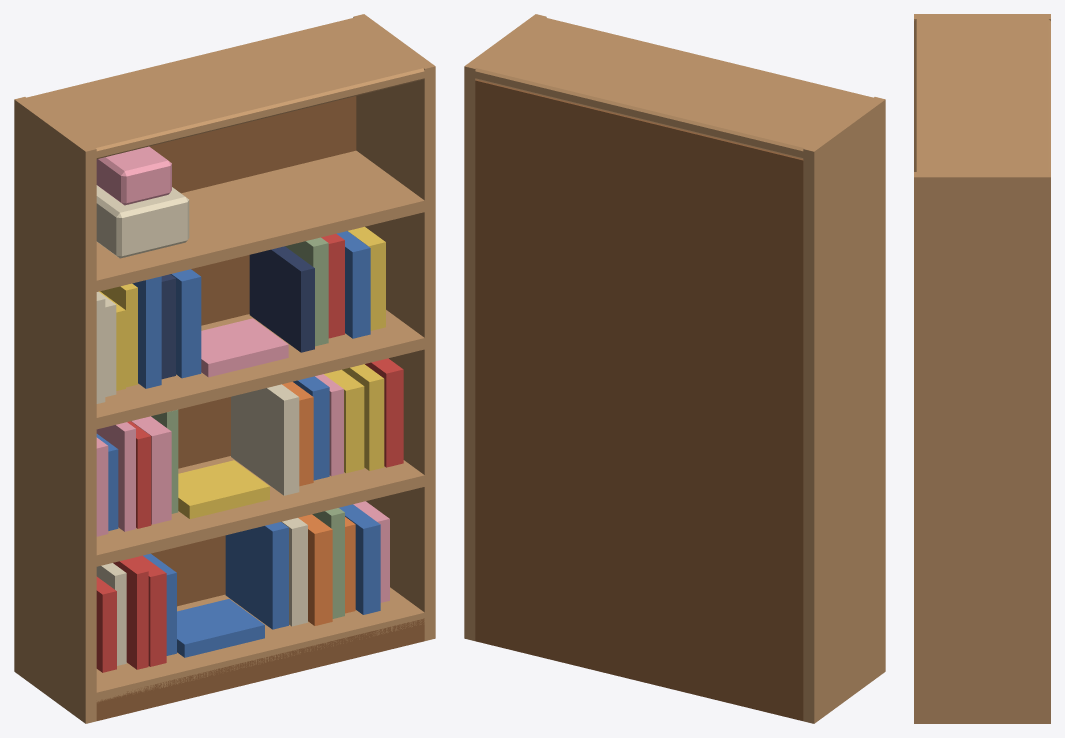
Rendered from bookshelf.glb.
3 renders of one model, left to right at view 1: azimuth 30°, elevation 25°; view 2: azimuth 150°, elevation 25°; view 3: azimuth 270°, elevation 25°, orthographic. The views are drawn at different scales.
Visible parts, largest first — view 1: bookshelf; view 2: bookshelf; view 3: bookshelf.
Boxes of the visible parts, x1=… form: bookshelf: x1=14, y1=14, x2=435, y2=723; bookshelf: x1=464, y1=14, x2=885, y2=723; bookshelf: x1=914, y1=14, x2=1050, y2=723.
Bounding box in the file's own units: 0.96 × 1.5 × 0.34.
Materials: 1 (1 with a texture image).
